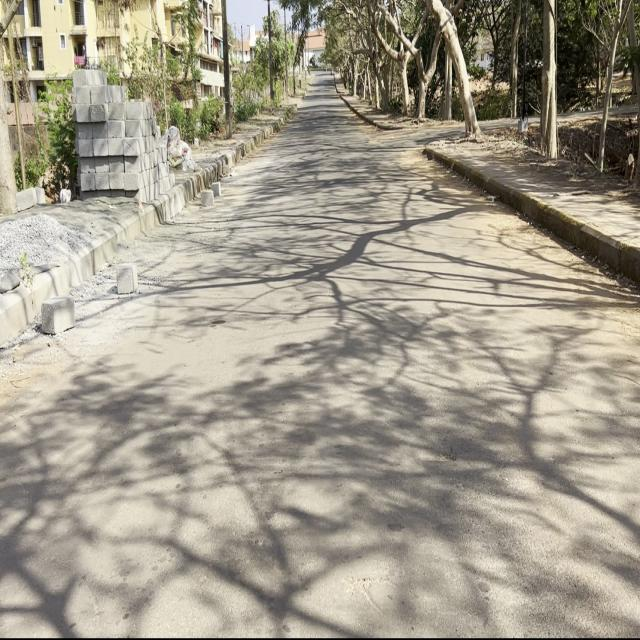Road: (1, 81, 640, 637)
